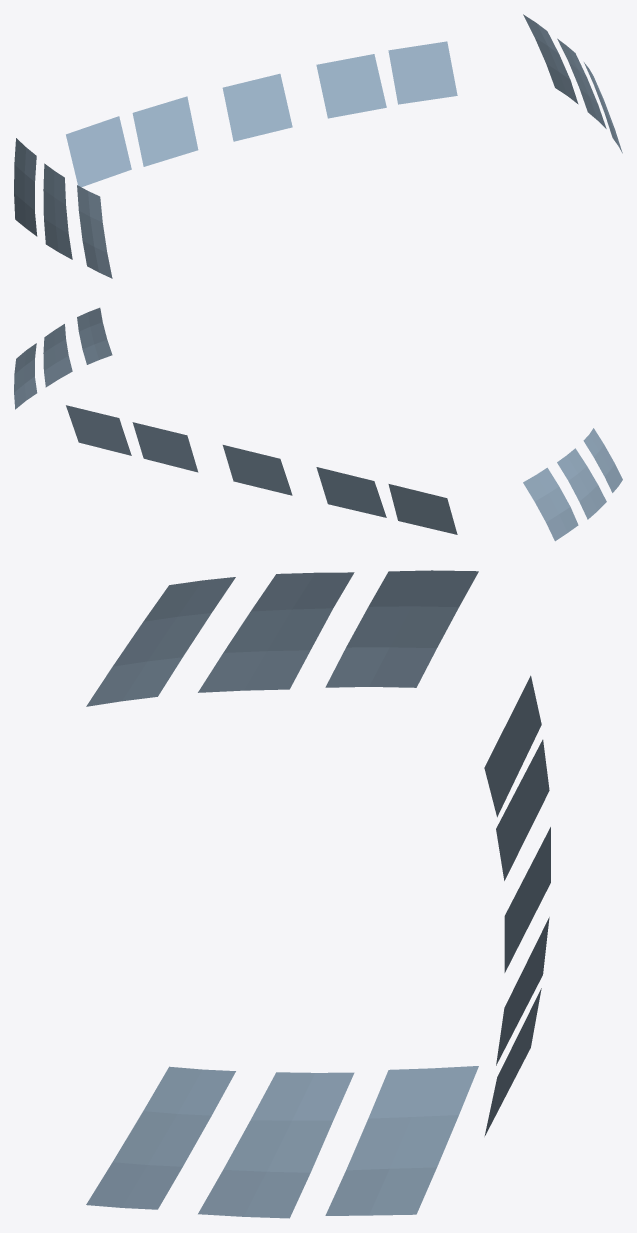
Rendered from windows.fbx.
The picture shows the model from 3 angles, top to bottom: view 1: azimuth 30°, elevation 25°; view 2: azimuth 150°, elevation 25°; view 3: azimuth 270°, elevation 25°; orthographic projection. The views are drawn at different scales.
Visible parts, largest first — view 1: Windows; view 2: Windows; view 3: Windows.
Boxes of the visible parts, bbox=[...] form: Windows: bbox=[14, 14, 622, 278]; Windows: bbox=[14, 307, 622, 541]; Windows: bbox=[86, 570, 550, 1218].
Bounding box in the file's own units: 947 × 115 × 352.
